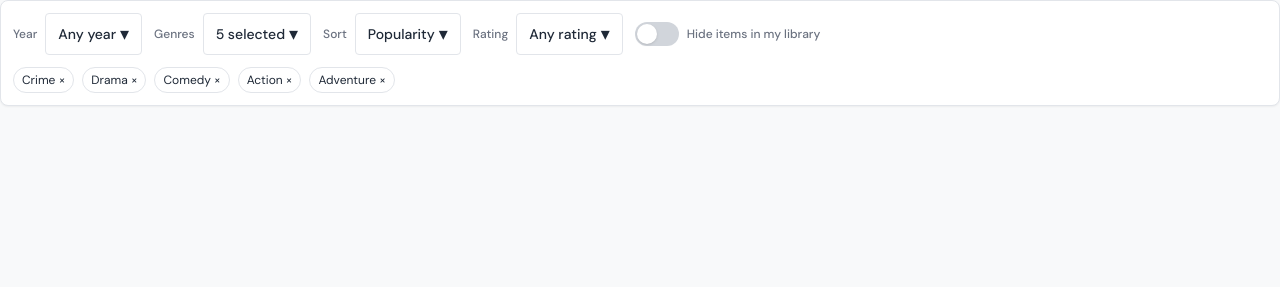
Test: DiscoverFilterBar › stops further genre selection at the cap
Click the button with aria-label "Genres: ": (257,34) [203,13,311,55]
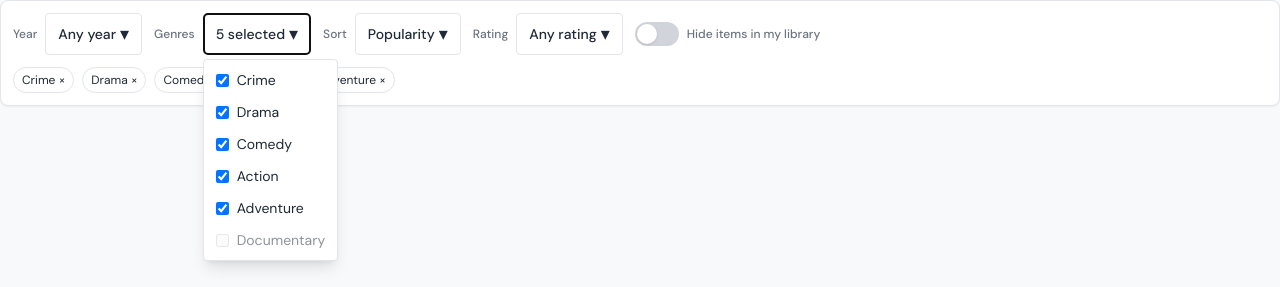
Result: the checkbox labelled "Crime" is enabled at [216,74,229,86]
